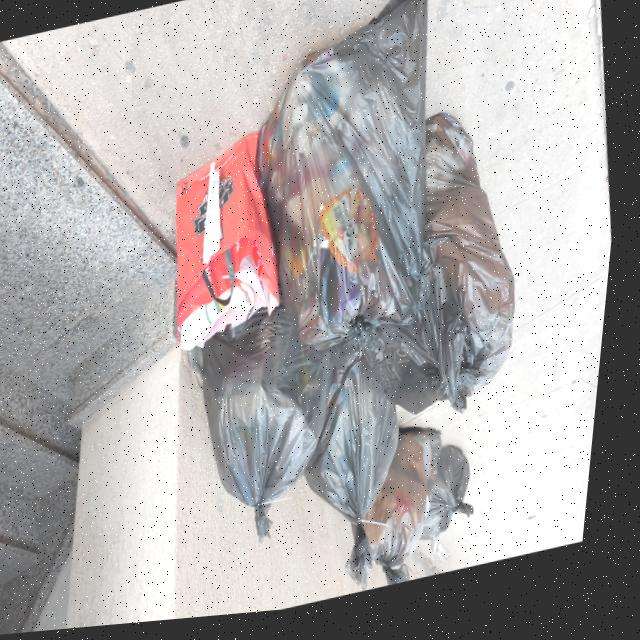Mixed Waste -Black Bag-: (226, 1, 479, 362), (331, 110, 543, 436), (188, 286, 368, 524), (295, 353, 425, 542), (346, 427, 471, 591), (419, 450, 493, 556)
Other: (160, 140, 301, 348)
